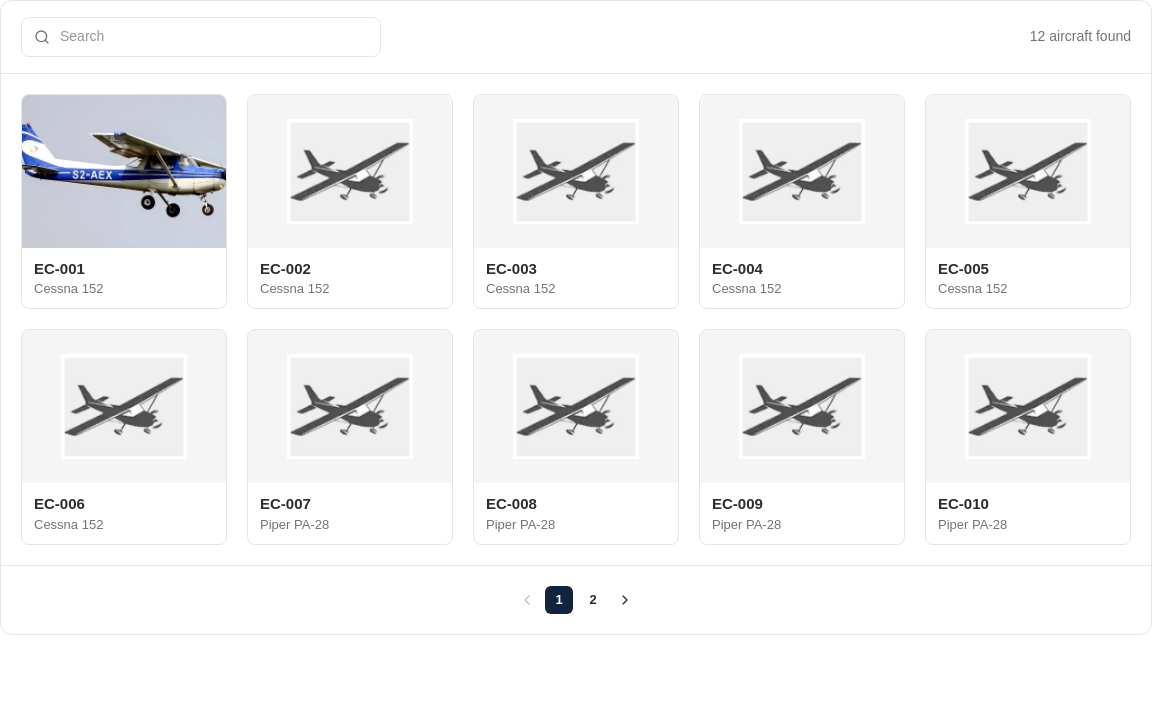
it: AircraftDirectory › shows a no-results message when nothing matches the search
Type "zzz" into the search field named "Search aircraft".
click(214, 37); type("zzz")  # box [60,27,368,47]
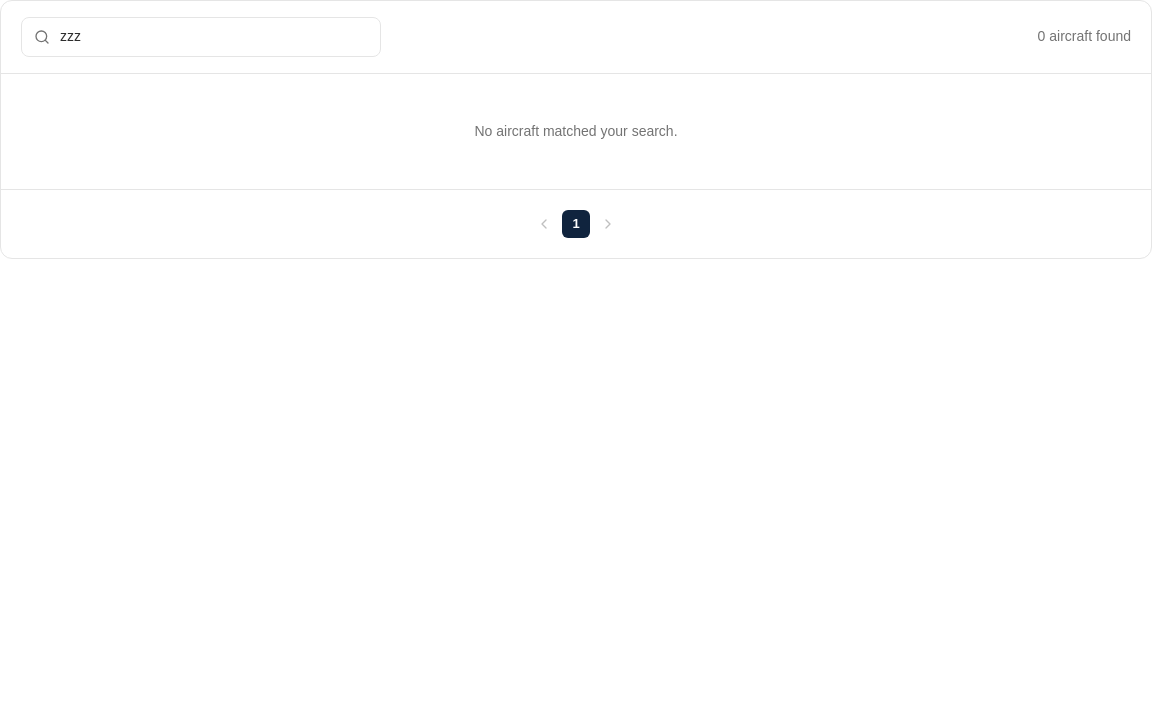
Check: the text "No aircraft matched your search." is shown, box [474,123,678,139]
